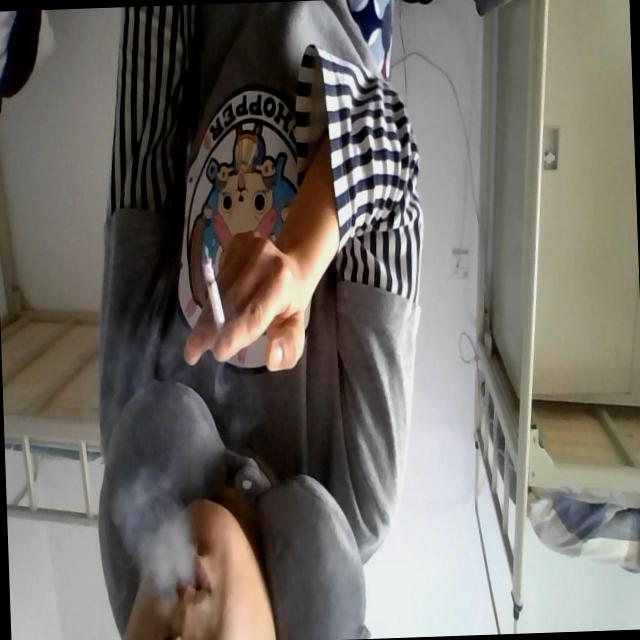cigarette: (196, 240, 235, 358)
